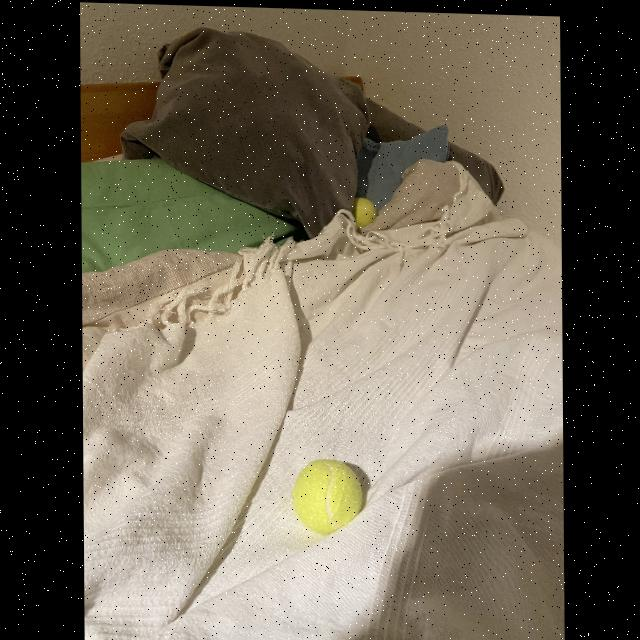Tennisball: (293, 459, 362, 535), (353, 198, 377, 228)
